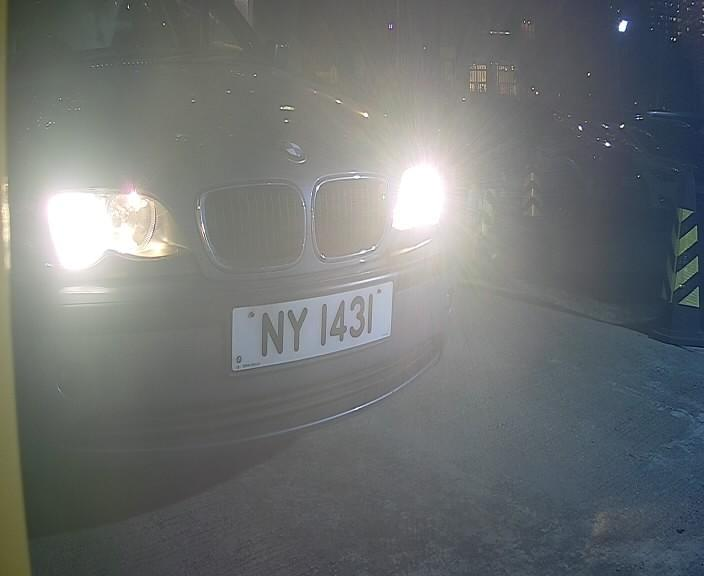License Plate: (221, 271, 390, 376)
